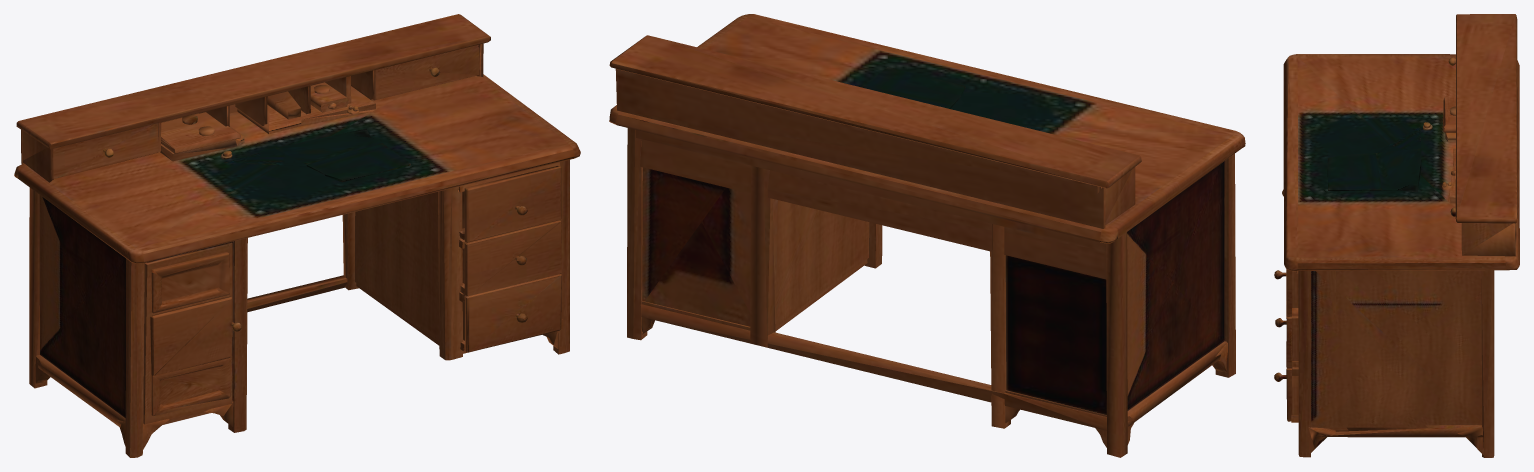
Rendered from desk.glb.
3 views of the same model, side by side, from view 1: azimuth 30°, elevation 25°; view 2: azimuth 150°, elevation 25°; view 3: azimuth 270°, elevation 25° (orthographic). The views are drawn at different scales.
Bounding box in the file's own units: 1.4 × 0.76 × 0.7.
1 material, 1 textured.
